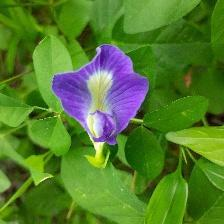shankupushpam: (51, 43, 154, 148)
